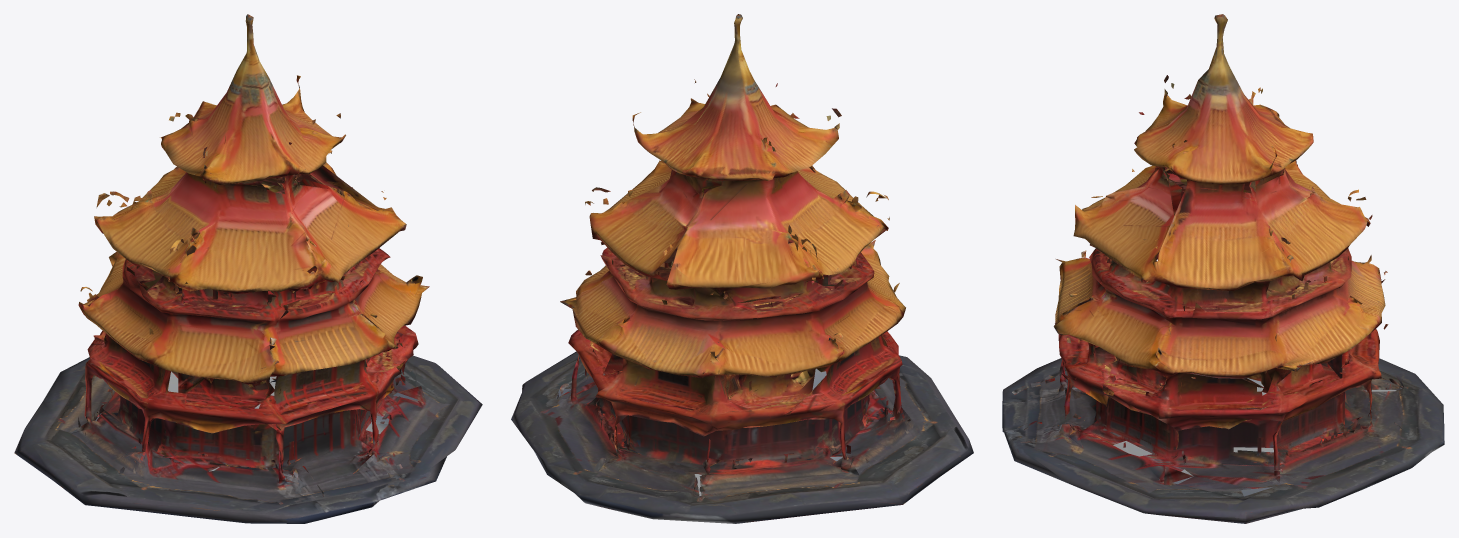
File: 중국_판타지_건물_0728143742_texture.fbx
3 views of the same model, side by side, from view 1: azimuth 30°, elevation 25°; view 2: azimuth 150°, elevation 25°; view 3: azimuth 270°, elevation 25° (orthographic).
Visible parts, largest first — view 1: Mesh1.0; view 2: Mesh1.0; view 3: Mesh1.0.
Boxes of the visible parts, box(x1,y1,x2,y2) form: Mesh1.0: box(14, 14, 482, 523); Mesh1.0: box(511, 14, 973, 523); Mesh1.0: box(1002, 14, 1444, 523).
Size of the model in its own units: 186 by 183 by 178.
1 material, 1 textured.
